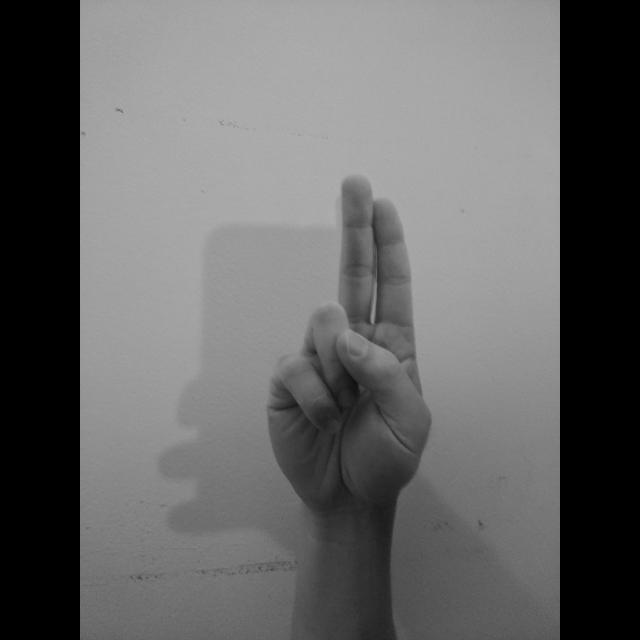U: (264, 168, 438, 516)
